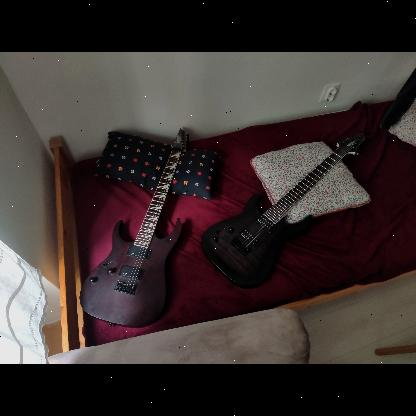guitar: (200, 130, 368, 294), (79, 127, 190, 327)
